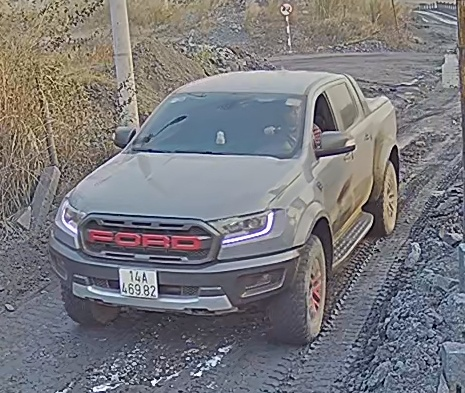vehicle plate: (114, 265, 164, 301)
